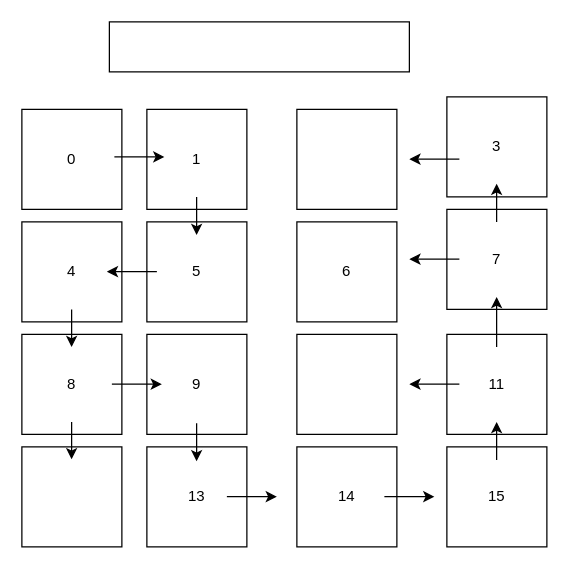
The diagram is 569 pixels wide and 569 high, and some of its shapes have lost their labels. The centre of each missing label's shape, as x and y in pixels:
"10 - Potion" belongs at (x=346, y=383).
"12 - Wand" belongs at (x=71, y=496).
"2 - Book" belongs at (x=346, y=158).
"Simple Maze" belongs at (x=258, y=46).
